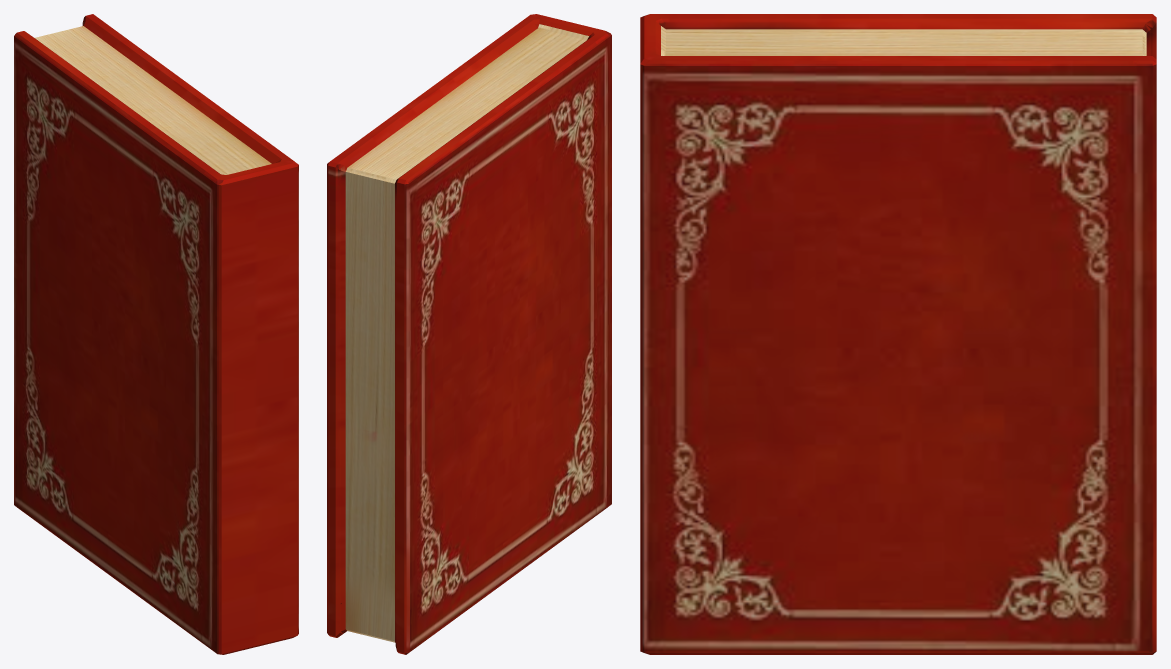
The model's file is livre.fbx.
3 views of the same model, side by side, from view 1: azimuth 30°, elevation 25°; view 2: azimuth 150°, elevation 25°; view 3: azimuth 270°, elevation 25° (orthographic). The views are drawn at different scales.
Parts seen in each view (by area): view 1: Livre; view 2: Livre; view 3: Livre.
Part boxes in pixels (<box>): Livre: <box>14,14,298,654</box>; Livre: <box>327,14,611,654</box>; Livre: <box>640,14,1156,654</box>.
Size of the model in its own units: 89.01 by 494 by 389.
Materials: 2 (2 with a texture image).
